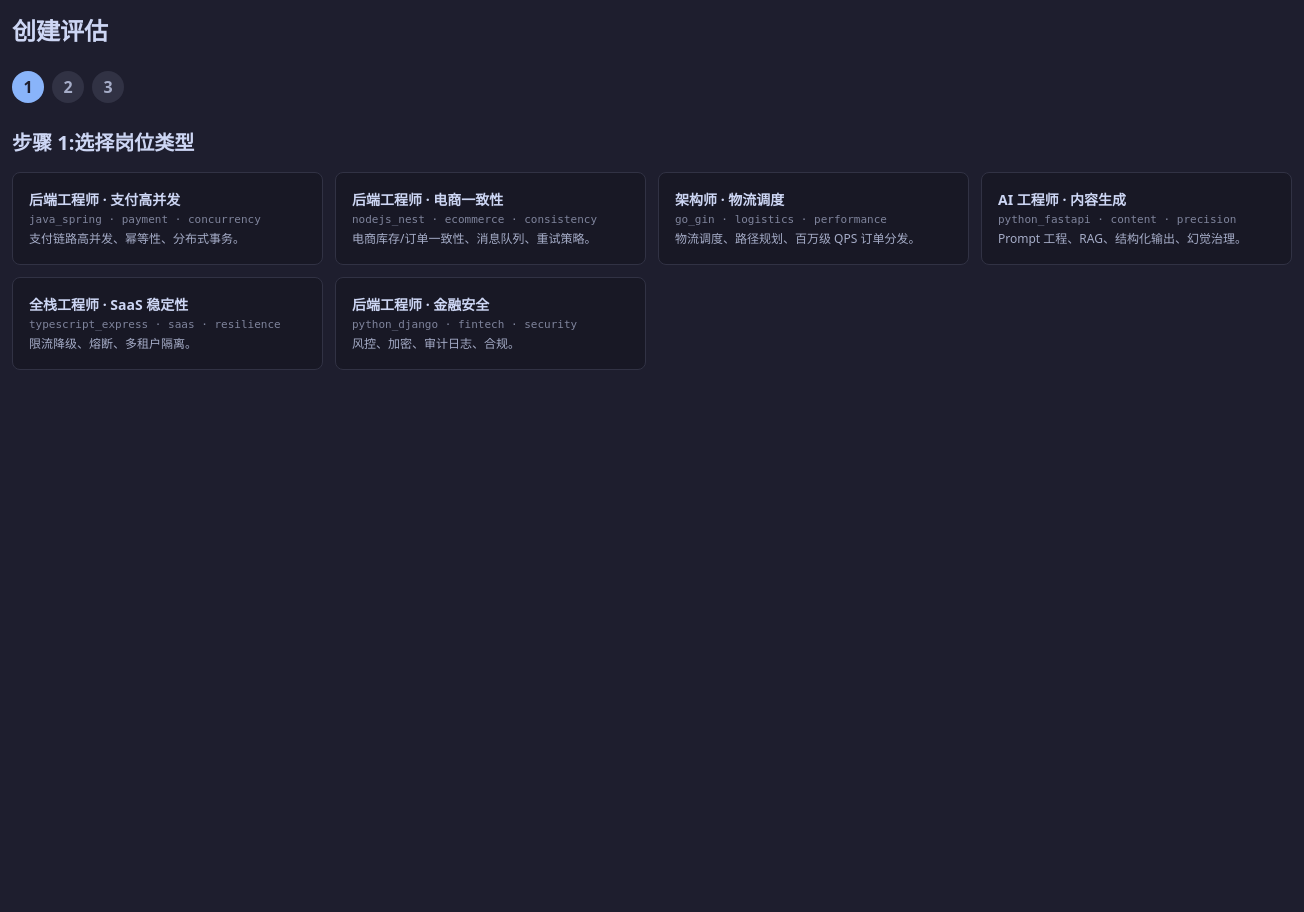
<AdminCreateSessionPage /> › senior + archStyle position recommends architect
# pos-architect-logistics is index 2 by our fixture order.
Click the button with test id "admin-create-step1-position-2" at (814,218), box left=658, top=172, right=969, bottom=265
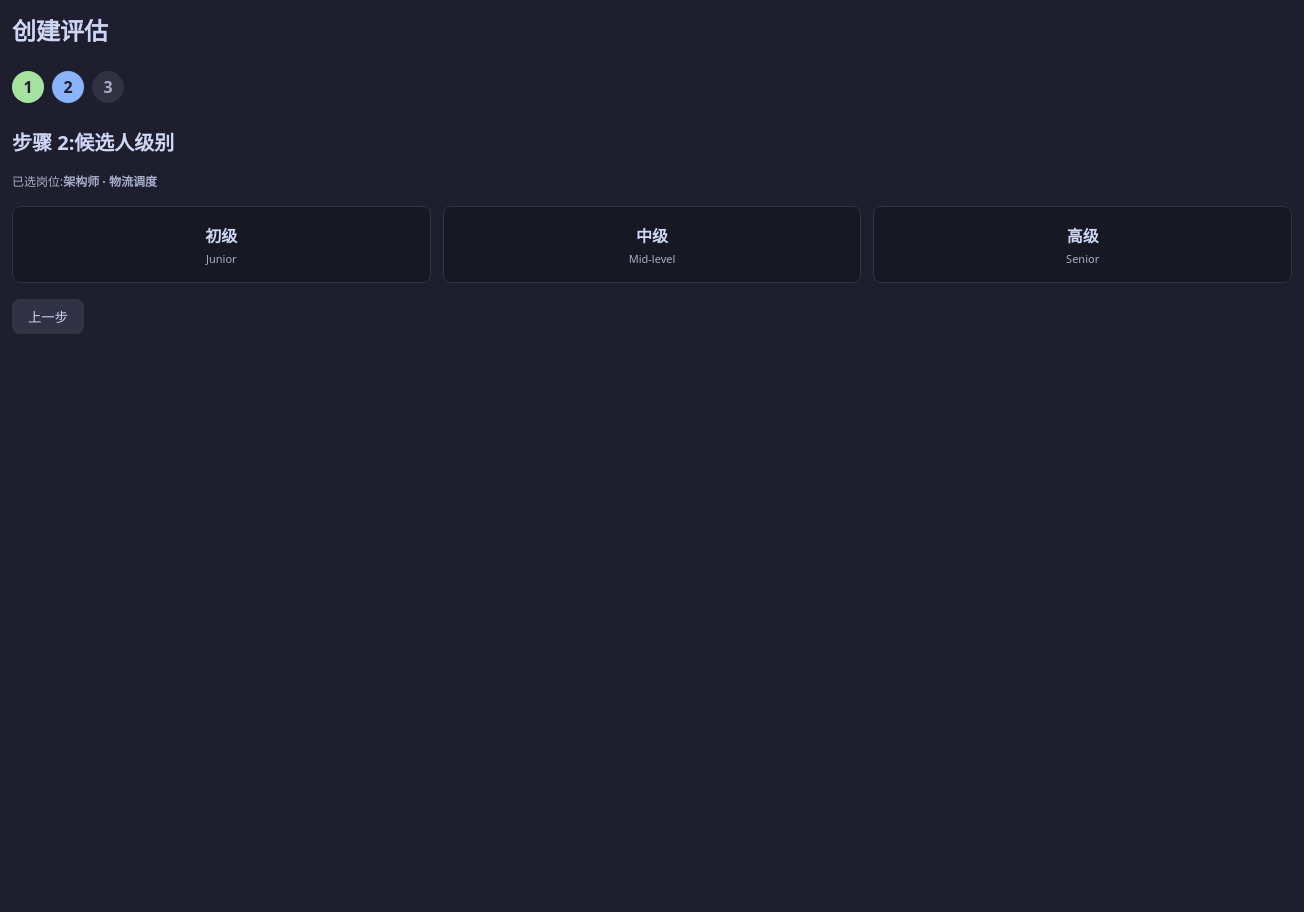
Click the button with test id "admin-create-step2-level-senior" at (1083,244), box left=873, top=206, right=1292, bottom=283
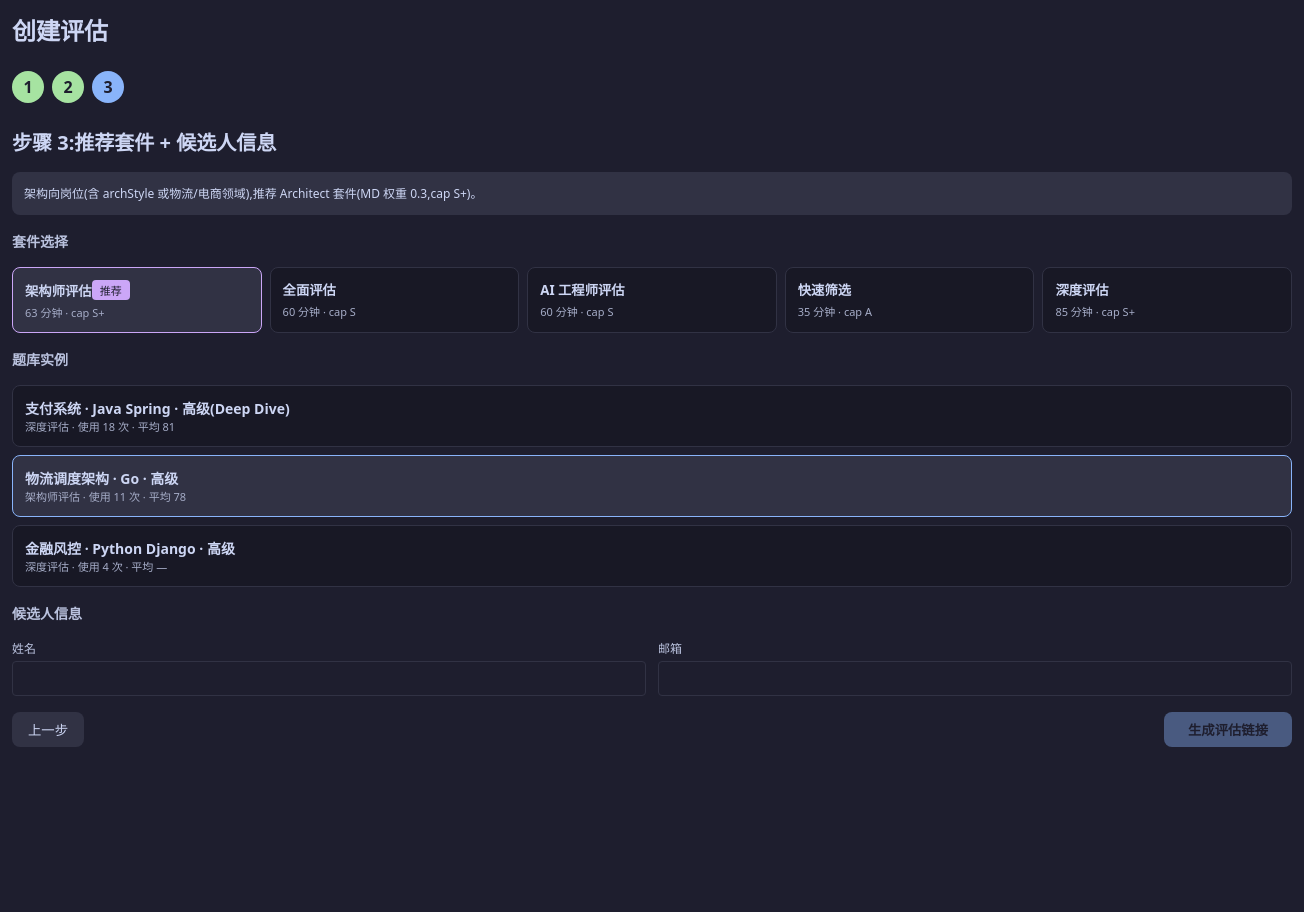
Expected: the element with test id "admin-create-step-3" is shown
Expected: the button with test id "admin-create-step3-suite-architect" is shown, left=12, top=267, right=262, bottom=333
Expected: the text with test id "admin-create-step3-reasoning" reads "架构向岗位(含 archStyle 或物流/电商领域),推荐 Architect 套件(MD 权重 0.3,cap S+)。", left=24, top=185, right=482, bottom=202
